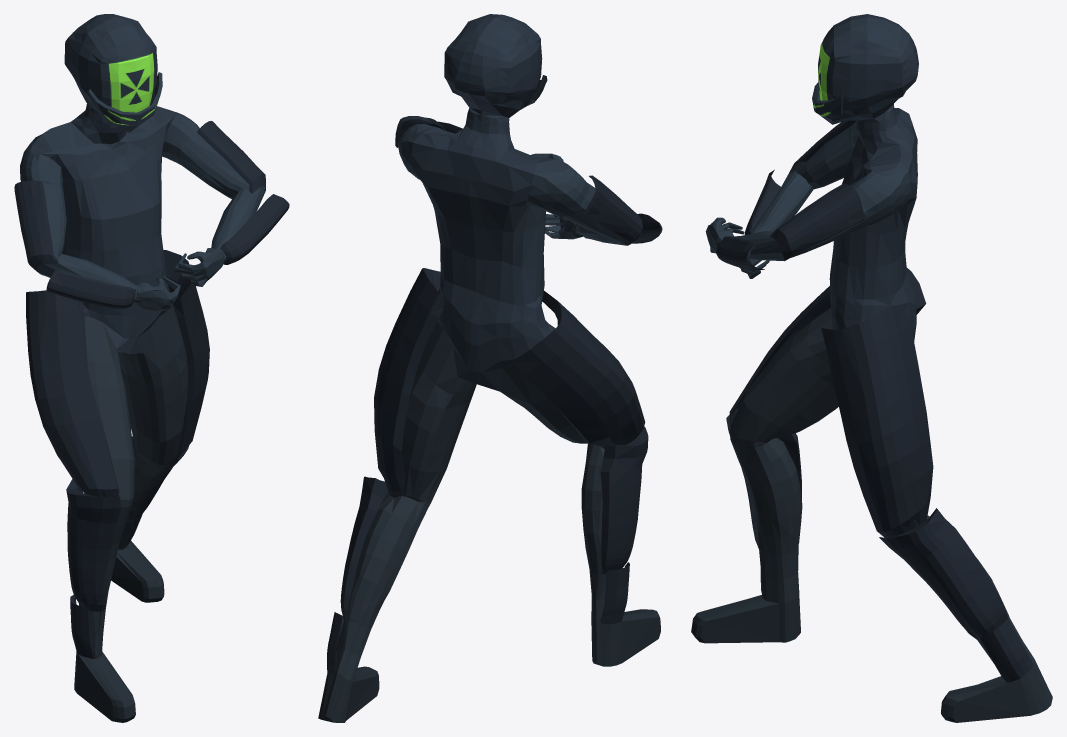
The model's file is Bastion_Stun_Recover_000022.obj.
3 views of the same model, side by side, from view 1: azimuth 30°, elevation 25°; view 2: azimuth 150°, elevation 25°; view 3: azimuth 270°, elevation 25° (orthographic). The views are drawn at different scales.
Visible parts, largest first — view 1: Cube.002; view 2: Cube.002; view 3: Cube.002.
Boxes of the visible parts, x1,y1,x2,y2 form: Cube.002: [14, 14, 289, 722]; Cube.002: [318, 14, 662, 722]; Cube.002: [691, 14, 1052, 722].
Bounding box in the file's own units: 1.41 × 3.67 × 1.82.
